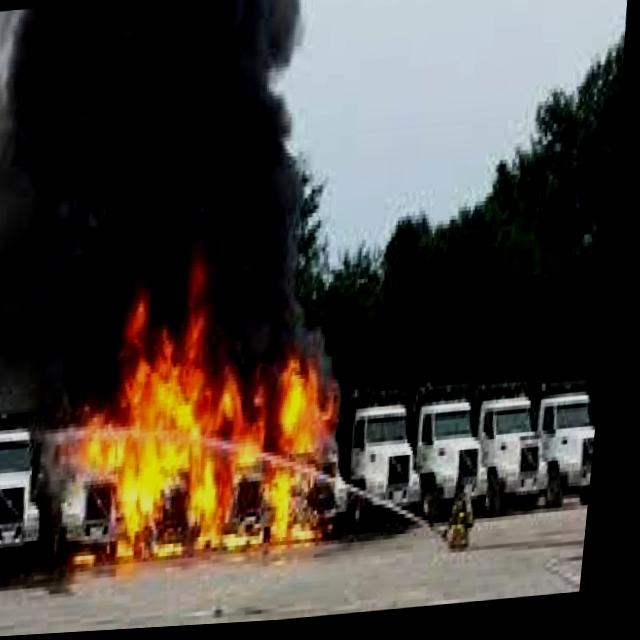helmet: (63, 319, 348, 559)
no_helmet: (0, 0, 343, 426)
